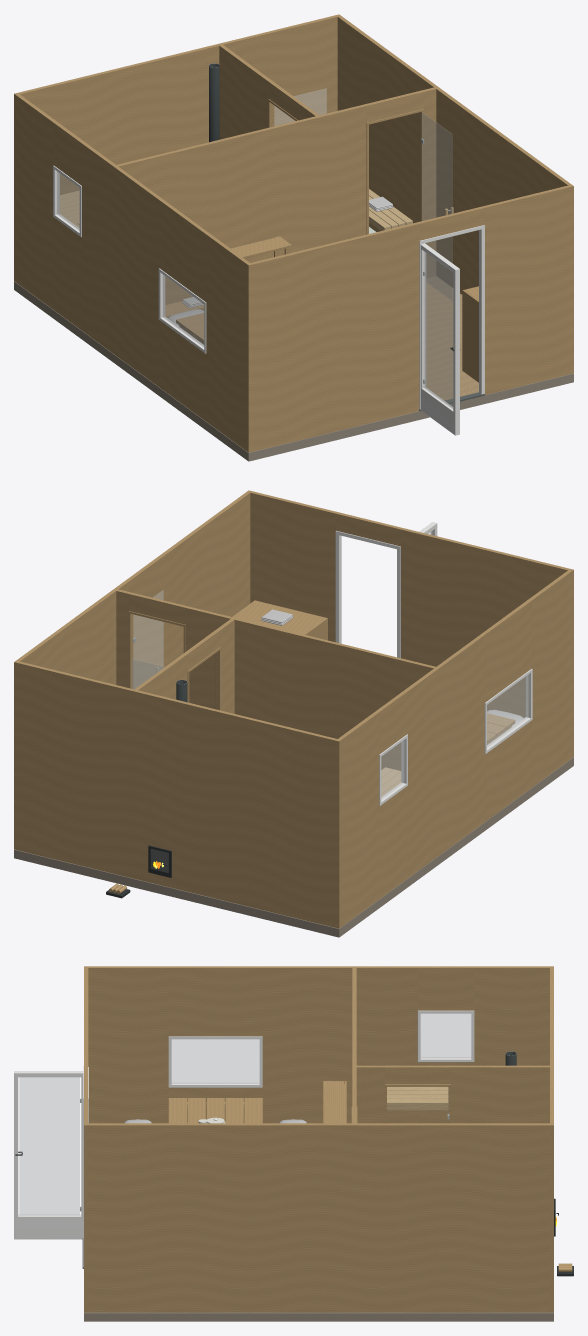
3 renders of one model, top to bottom at view 1: azimuth 30°, elevation 25°; view 2: azimuth 150°, elevation 25°; view 3: azimuth 270°, elevation 25°, orthographic.
Parts seen in each view (by area): view 1: ПГ1 wall, ПГ3 wall, ПГ6 wall, ПГ2 wall, ПГ4 wall, DachaPar_17, Hinge_DP06-D03, ПГ5 wall, Hinge_DP06-D02, Window p6_i1747, Door entry p6_i1696, Window p6_i1746 (+7 smaller); view 2: ПГ2 wall, ПГ3 wall, ПГ1 wall, ПГ6 wall, ПГ4 wall, DachaPar_17, ПГ5 wall, Window p6_i1747, Hinge_DP06-D02, DP06-O11, Window p6_i1746, Door entry p6_i1696 (+2 smaller); view 3: ПГ4 wall, ПГ3 wall, Hinge_DP06-D03, ПГ5 wall, Window p6_i1747, DachaPar_17, Window p6_i1746, С1 table, ПГ1 wall, ПГ2 wall, ВП2 upper, Ш1 storage (+2 smaller).
Boxes of the visible parts, x1=… form: ПГ1 wall: x1=246, y1=184, x2=573, y2=452; ПГ3 wall: x1=16, y1=94, x2=249, y2=450; ПГ6 wall: x1=117, y1=87, x2=436, y2=310; ПГ2 wall: x1=14, y1=14, x2=340, y2=281; ПГ4 wall: x1=337, y1=16, x2=571, y2=294; DachaPar_17: x1=14, y1=227, x2=573, y2=461; Hinge_DP06-D03: x1=420, y1=243, x2=460, y2=435; ПГ5 wall: x1=219, y1=45, x2=318, y2=139; Hinge_DP06-D02: x1=421, y1=112, x2=453, y2=300; Window p6_i1747: x1=158, y1=268, x2=206, y2=353; Door entry p6_i1696: x1=419, y1=225, x2=484, y2=411; Window p6_i1746: x1=53, y1=165, x2=81, y2=237; ПГ2 wall: x1=14, y1=660, x2=341, y2=928; ПГ3 wall: x1=338, y1=570, x2=571, y2=926; ПГ1 wall: x1=247, y1=490, x2=573, y2=757; ПГ6 wall: x1=116, y1=589, x2=435, y2=770; ПГ4 wall: x1=16, y1=492, x2=250, y2=688; DachaPar_17: x1=14, y1=757, x2=573, y2=937; ПГ5 wall: x1=135, y1=619, x2=234, y2=713; Window p6_i1747: x1=484, y1=669, x2=532, y2=754; Hinge_DP06-D02: x1=133, y1=590, x2=163, y2=688; DP06-O11: x1=232, y1=600, x2=327, y2=640; Window p6_i1746: x1=379, y1=734, x2=407, y2=805; Door entry p6_i1696: x1=335, y1=530, x2=400, y2=658; ПГ4 wall: x1=88, y1=1123, x2=549, y2=1312; ПГ3 wall: x1=88, y1=966, x2=549, y2=1123; Hinge_DP06-D03: x1=14, y1=1071, x2=83, y2=1239; ПГ5 wall: x1=356, y1=1065, x2=549, y2=1123; Window p6_i1747: x1=168, y1=1036, x2=262, y2=1087; DachaPar_17: x1=84, y1=1312, x2=553, y2=1321; Window p6_i1746: x1=417, y1=1010, x2=474, y2=1062; С1 table: x1=168, y1=1098, x2=262, y2=1123; ПГ1 wall: x1=84, y1=966, x2=88, y2=1312; ПГ2 wall: x1=550, y1=966, x2=553, y2=1312; ВП2 upper: x1=387, y1=1086, x2=448, y2=1105; Ш1 storage: x1=323, y1=1081, x2=346, y2=1123.
Size of the model in its own units: 4.01 by 2.36 by 5.96.
34 materials, 15 textured.
